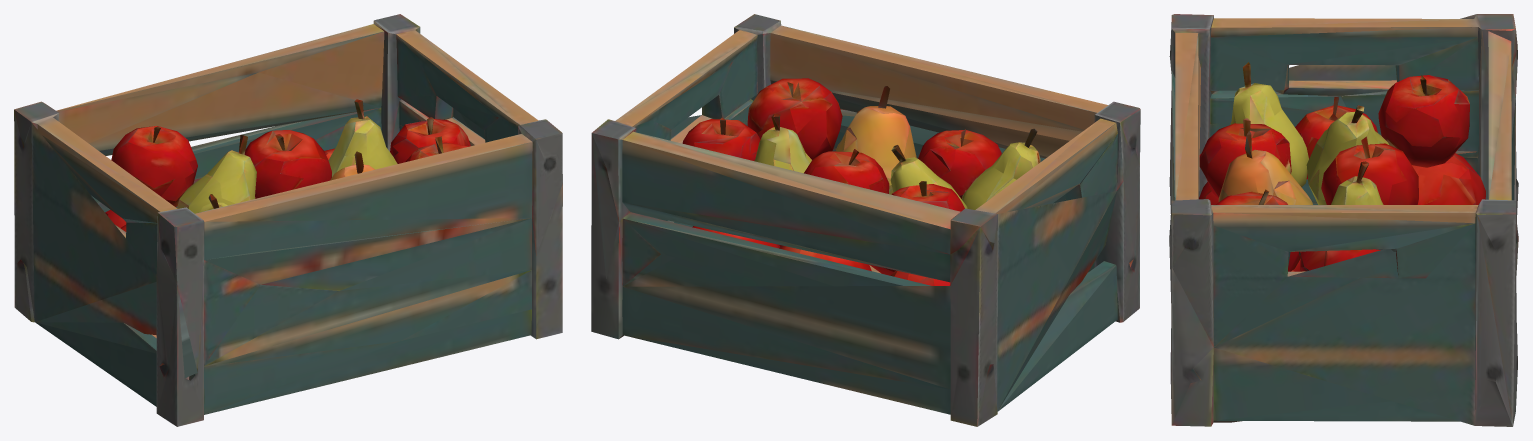
File: fruitCrate.glb
3 renders of one model, left to right at view 1: azimuth 30°, elevation 25°; view 2: azimuth 150°, elevation 25°; view 3: azimuth 270°, elevation 25°, orthographic. The views are drawn at different scales.
Parts seen in each view (by area): view 1: Mesh_0; view 2: Mesh_0; view 3: Mesh_0.
Part boxes in pixels (x1,y1,x2,y2): Mesh_0: (14,14,562,426); Mesh_0: (591,14,1140,426); Mesh_0: (1169,14,1518,426).
Bounding box in the file's own units: 0.5522 × 0.2721 × 0.4.
1 material, 1 textured.
